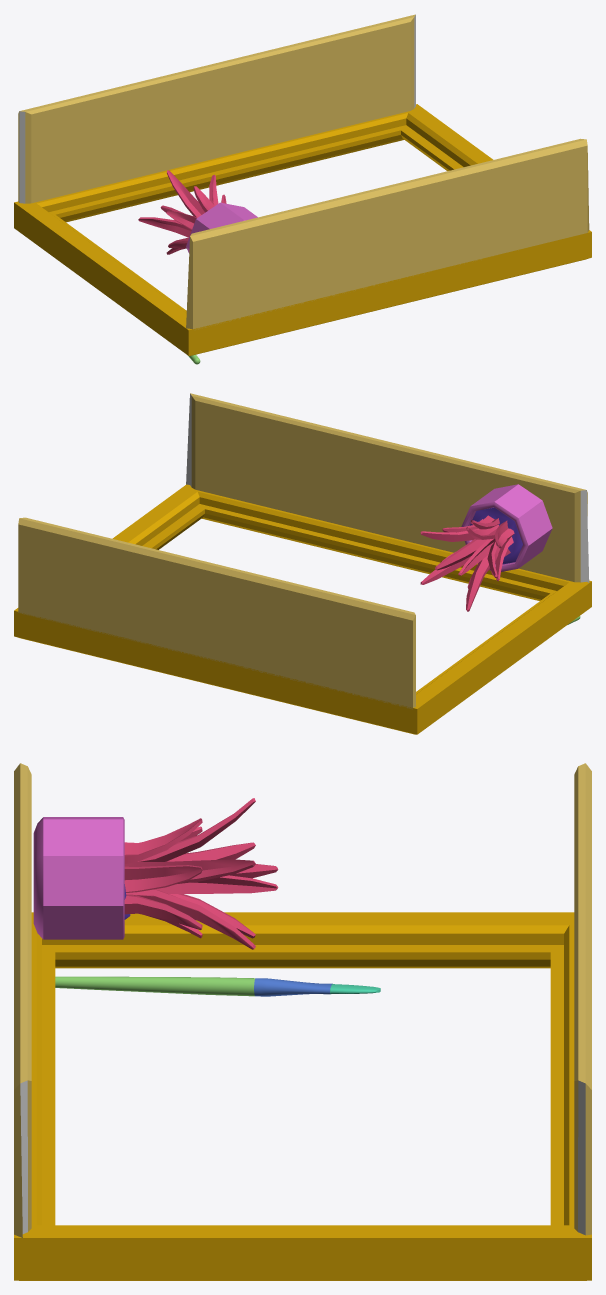
The model's file is window.gltf.
3 views of the same model, one above another, from view 1: azimuth 30°, elevation 25°; view 2: azimuth 150°, elevation 25°; view 3: azimuth 270°, elevation 25° (orthographic). The views are drawn at different scales.
Parts seen in each view (by area): view 1: window; view 2: window; view 3: window.
Part boxes in pixels (x1=…): window: x1=14, y1=14, x2=591, y2=364; window: x1=14, y1=393, x2=591, y2=734; window: x1=14, y1=763, x2=591, y2=1280.
Bounding box in the file's own units: 28.02 × 8.86 × 21.01.
